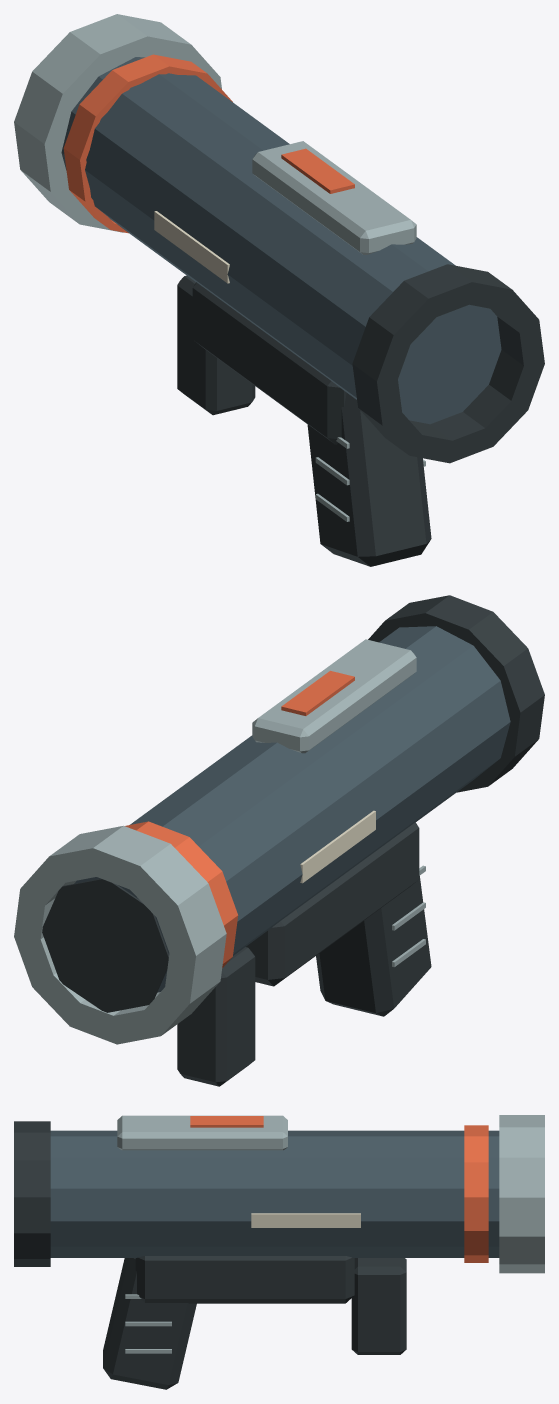
File: rocket_launcher.glb
The picture shows the model from 3 angles, top to bottom: view 1: azimuth 30°, elevation 25°; view 2: azimuth 150°, elevation 25°; view 3: azimuth 270°, elevation 25°; orthographic projection. The views are drawn at different scales.
Visible parts, largest first — view 1: rocket_launcher_main_tube, rocket_launcher_rear_shroud, rocket_launcher_grip, rocket_launcher_front_shroud, rocket_launcher_lower_housing, rocket_launcher_top_carry_rail, rocket_launcher_safety_band, rocket_launcher_forward_grip, rocket_launcher_tube_mark, rocket_launcher_rail_stripe; view 2: rocket_launcher_main_tube, rocket_launcher_front_shroud, rocket_launcher_front_shroud_bore, rocket_launcher_lower_housing, rocket_launcher_grip, rocket_launcher_rear_shroud, rocket_launcher_forward_grip, rocket_launcher_top_carry_rail, rocket_launcher_safety_band, rocket_launcher_tube_mark, rocket_launcher_rail_stripe; view 3: rocket_launcher_main_tube, rocket_launcher_lower_housing, rocket_launcher_front_shroud, rocket_launcher_grip, rocket_launcher_rear_shroud, rocket_launcher_top_carry_rail, rocket_launcher_forward_grip, rocket_launcher_safety_band, rocket_launcher_tube_mark.001, rocket_launcher_rail_stripe.
Boxes of the visible parts, <box> form: rocket_launcher_main_tube: <box>61,57,501,424</box>; rocket_launcher_rear_shroud: <box>352,264,544,463</box>; rocket_launcher_grip: <box>307,393,431,566</box>; rocket_launcher_front_shroud: <box>14,14,221,232</box>; rocket_launcher_lower_housing: <box>192,282,346,444</box>; rocket_launcher_top_carry_rail: <box>252,141,416,254</box>; rocket_launcher_safety_band: <box>63,54,232,233</box>; rocket_launcher_forward_grip: <box>177,275,255,415</box>; rocket_launcher_tube_mark: <box>154,211,229,283</box>; rocket_launcher_rail_stripe: <box>281,148,354,193</box>; rocket_launcher_main_tube: <box>74,626,510,992</box>; rocket_launcher_front_shroud: <box>14,825,226,1044</box>; rocket_launcher_front_shroud_bore: <box>42,878,169,1012</box>; rocket_launcher_lower_housing: <box>246,822,419,986</box>; rocket_launcher_grip: <box>316,876,431,1016</box>; rocket_launcher_rear_shroud: <box>368,595,544,792</box>; rocket_launcher_forward_grip: <box>177,947,255,1086</box>; rocket_launcher_top_carry_rail: <box>252,639,416,753</box>; rocket_launcher_safety_band: <box>125,821,238,967</box>; rocket_launcher_tube_mark: <box>300,810,375,883</box>; rocket_launcher_rail_stripe: <box>281,670,354,715</box>; rocket_launcher_main_tube: <box>50,1130,499,1257</box>; rocket_launcher_lower_housing: <box>135,1256,354,1303</box>; rocket_launcher_front_shroud: <box>499,1115,544,1273</box>; rocket_launcher_grip: <box>103,1258,196,1389</box>; rocket_launcher_rear_shroud: <box>14,1121,50,1266</box>; rocket_launcher_top_carry_rail: <box>117,1115,287,1150</box>; rocket_launcher_forward_grip: <box>351,1258,406,1354</box>; rocket_launcher_safety_band: <box>464,1125,488,1262</box>; rocket_launcher_tube_mark.001: <box>251,1213,360,1227</box>; rocket_launcher_rail_stripe: <box>190,1116,263,1127</box>.
Size of the model in its own units: 0.2578 by 0.4716 by 0.8725.
